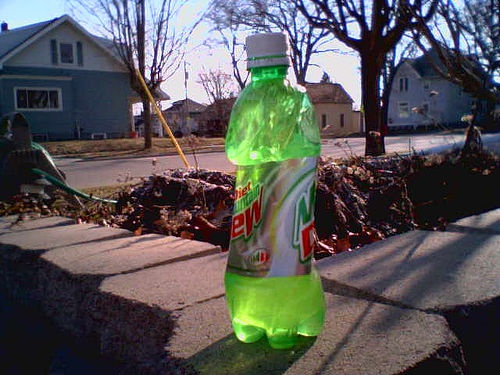emptybottle: (224, 33, 324, 348)
